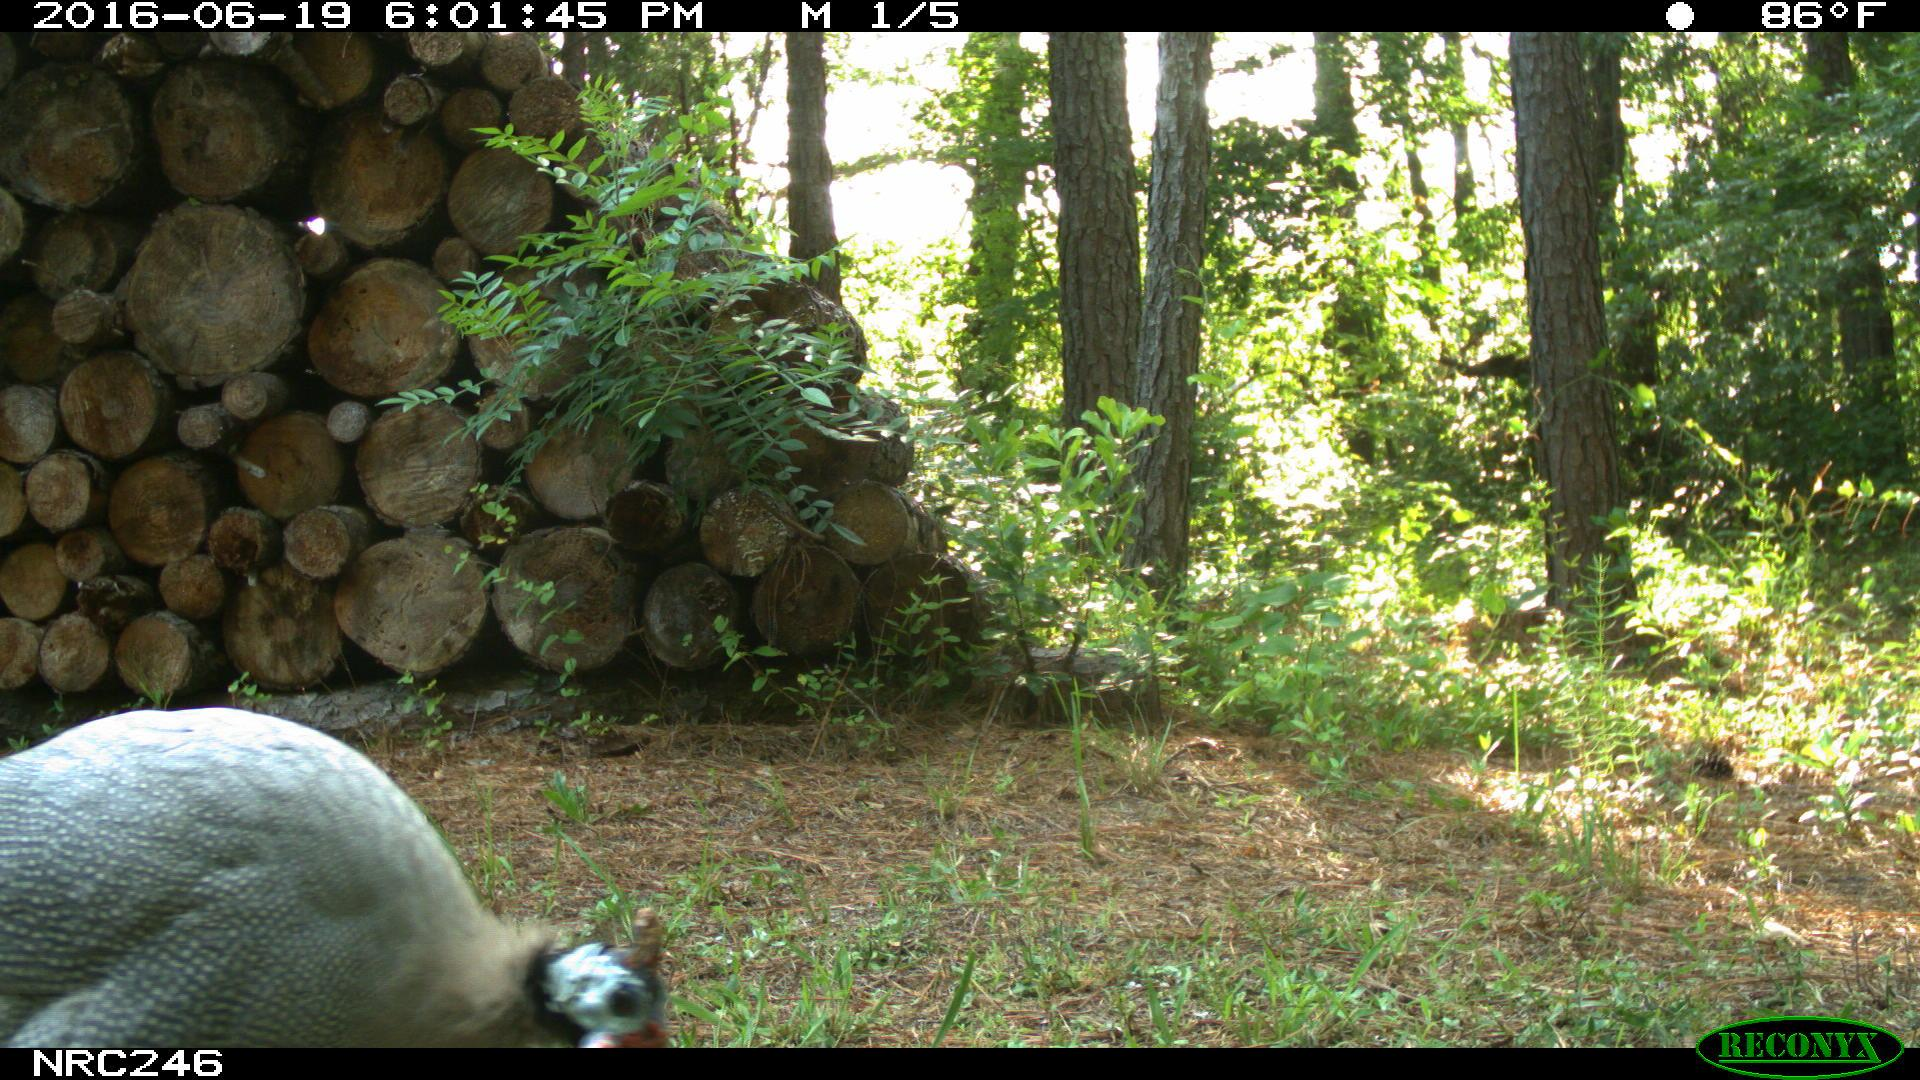Animal: (1, 705, 670, 1048)
